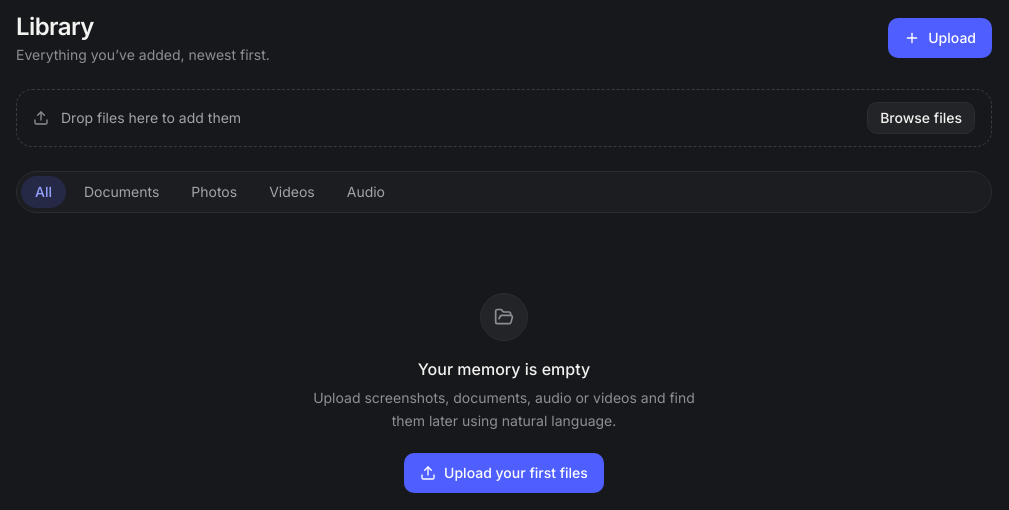
LibraryPage › re-queries with the chosen category
The image size is (1009, 510).
Expected: the heading "Your memory is empty" is shown, x1=418 y1=357 x2=590 y2=381
Click the button "Photos": (214, 192) x1=177 y1=176 x2=251 y2=208
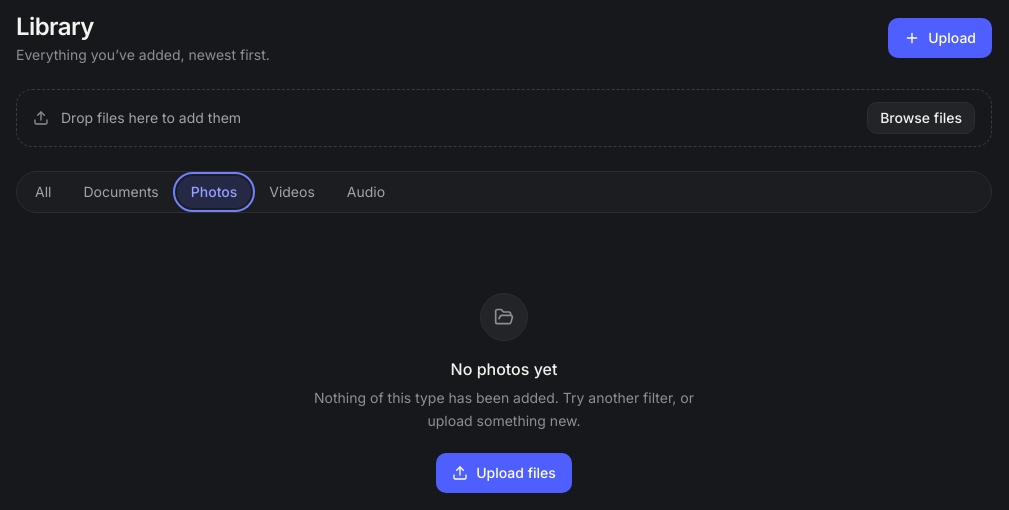
Now the heading "No photos yet" is shown, box x1=451 y1=357 x2=557 y2=381
